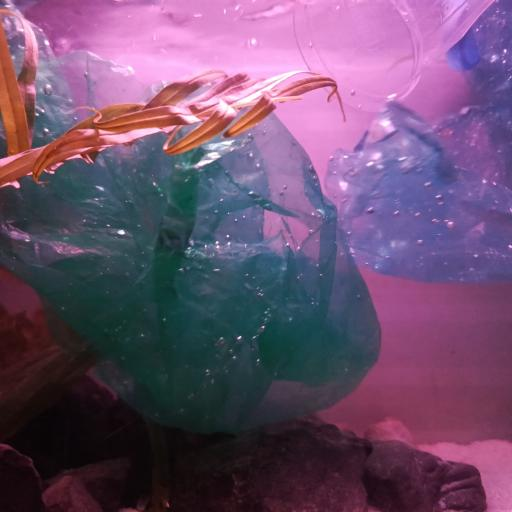bottle_cap: (448, 30, 485, 72)
plastic_bag: (0, 0, 384, 434), (326, 0, 511, 285)
plastic_cup: (293, 0, 496, 114)
